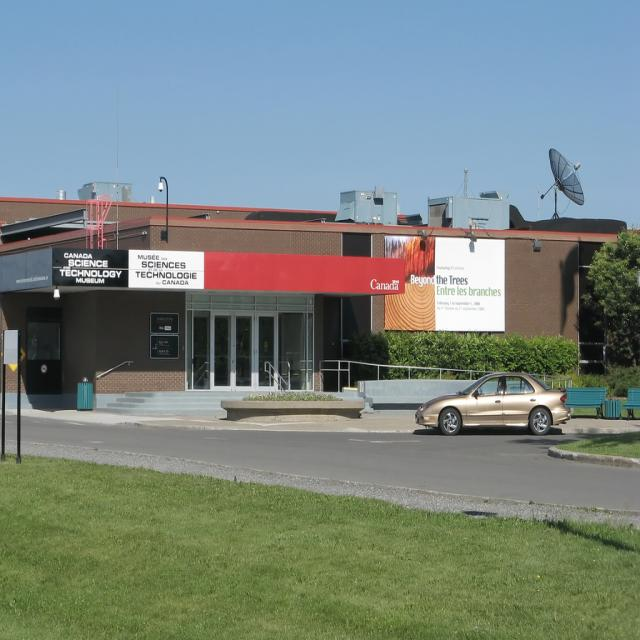car: (412, 371, 570, 434)
